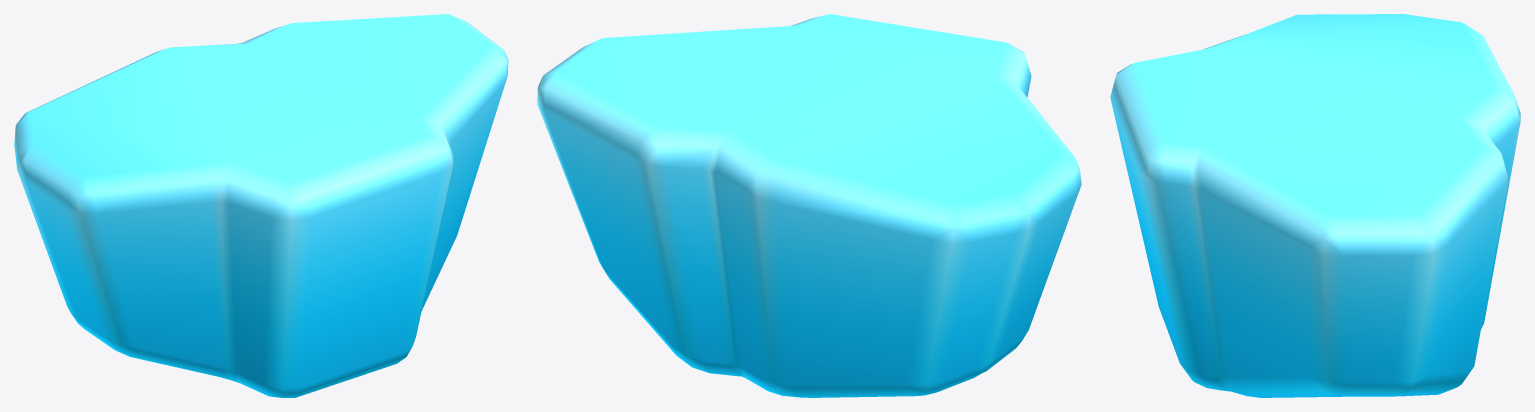
The model's file is ice_001.glb.
3 renders of one model, left to right at view 1: azimuth 30°, elevation 25°; view 2: azimuth 150°, elevation 25°; view 3: azimuth 270°, elevation 25°, orthographic. The views are drawn at different scales.
Parts seen in each view (by area): view 1: ice_001; view 2: ice_001; view 3: ice_001.
Boxes of the visible parts, x1=… form: ice_001: x1=14, y1=14, x2=508, y2=397; ice_001: x1=537, y1=14, x2=1081, y2=397; ice_001: x1=1110, y1=14, x2=1520, y2=397.
Size of the model in its own units: 3.37 by 1.7 by 2.45.
1 material, 1 textured.
